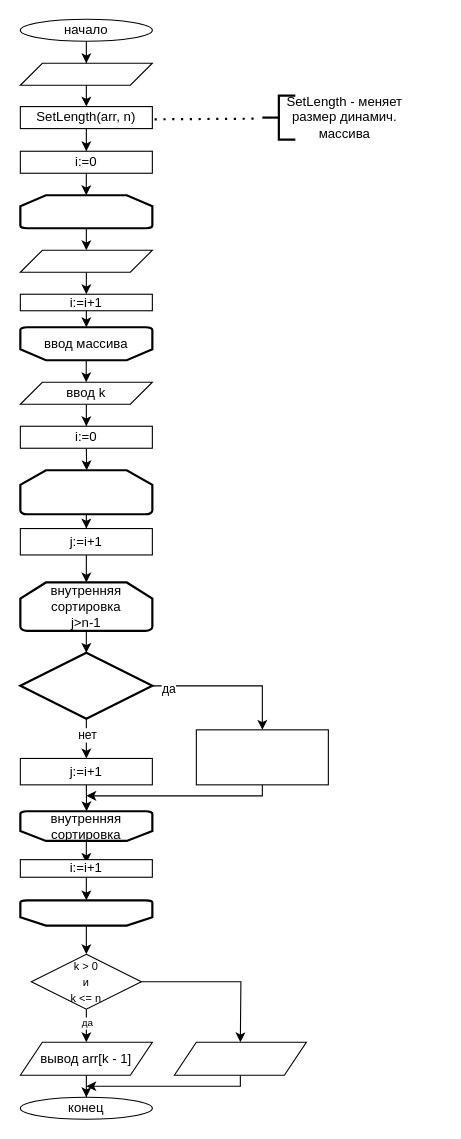
This 461x1139 diagram has some shape labels left out. Here are the shapes that lost their labels. From the top down, the centre of each, then its label:
At pixel 85 73: "ввод n".
At pixel 86 211: "ввод массива i>n-1".
At pixel 85 260: "ввод arr [i]".
At pixel 86 492: "внешняя сортировка i>n-2".
At pixel 86 685: "arr[i] > arr[j]".
At pixel 261 757: "t := arr[i] arr[i] := arr[j] arr[j] := t".
At pixel 86 912: "внешняя сортировка".
At pixel 239 1058: "вывод неверное значение k".
